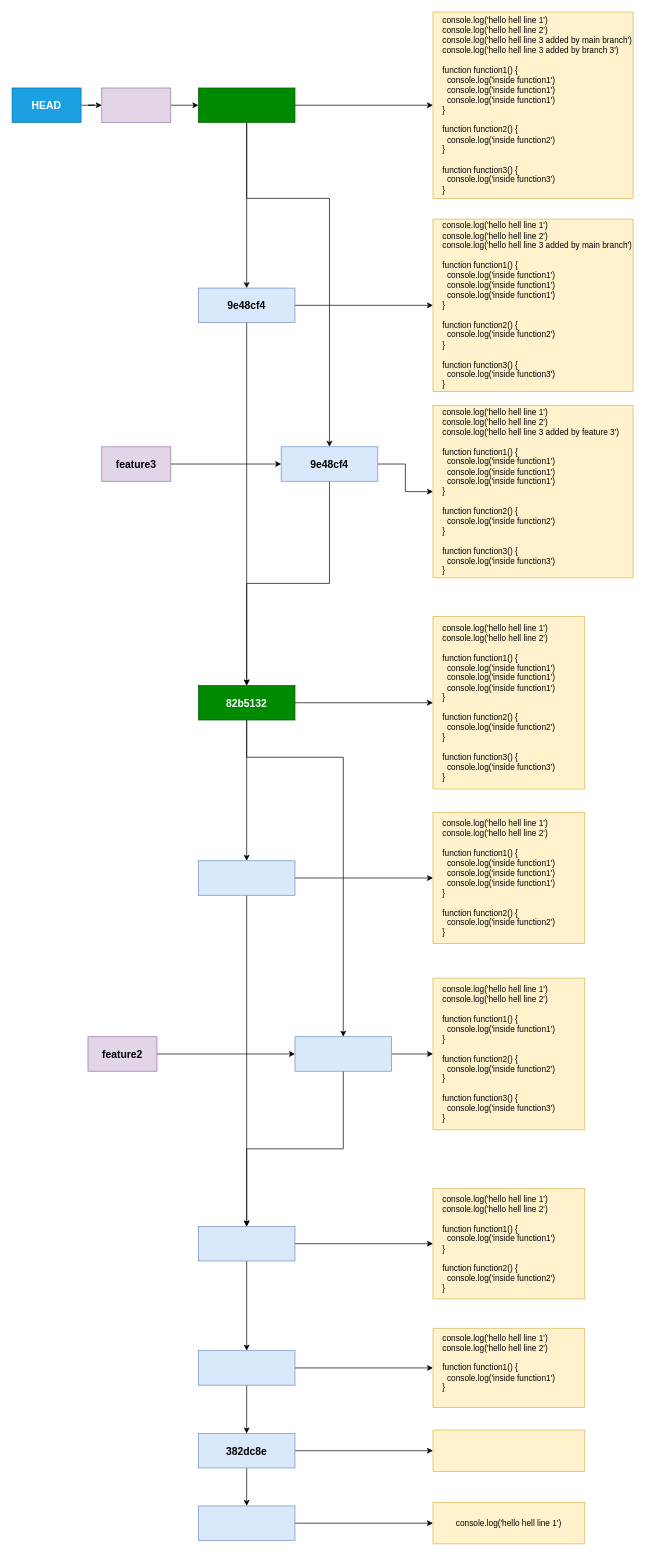
Image size: 645x1556. Some labels were removed from this diagram. The shapes that lost their labels are listed below. From the top down, each one's box as (x1, y1, x2, y2) in pixels, then its label:
(101, 87, 171, 122): main
(198, 87, 295, 122): 2580e4d
(198, 860, 295, 895): adbfaa0
(294, 1036, 392, 1071): 39d6bcf
(198, 1226, 295, 1261): a59b62b
(198, 1350, 295, 1385): 4cfaa7b
(432, 1429, 585, 1471): console.log('hello hell line 1') console.log('hello hell line 2')
(198, 1505, 295, 1540): 13c7243
